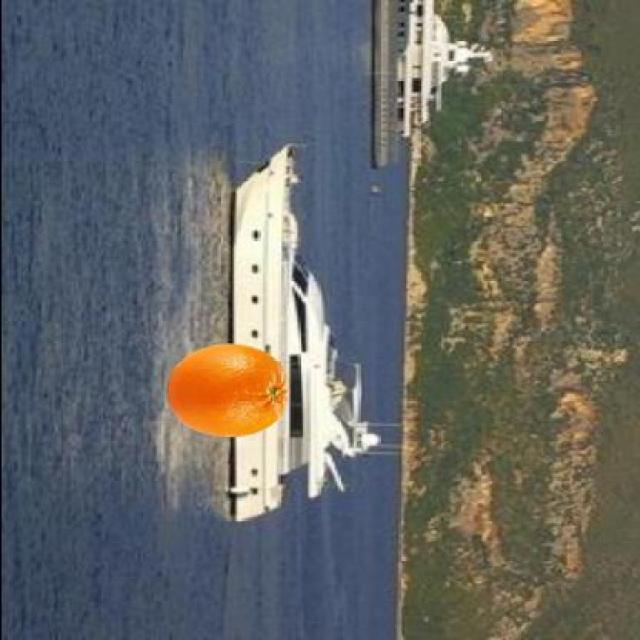Orange: (165, 341, 288, 437)
